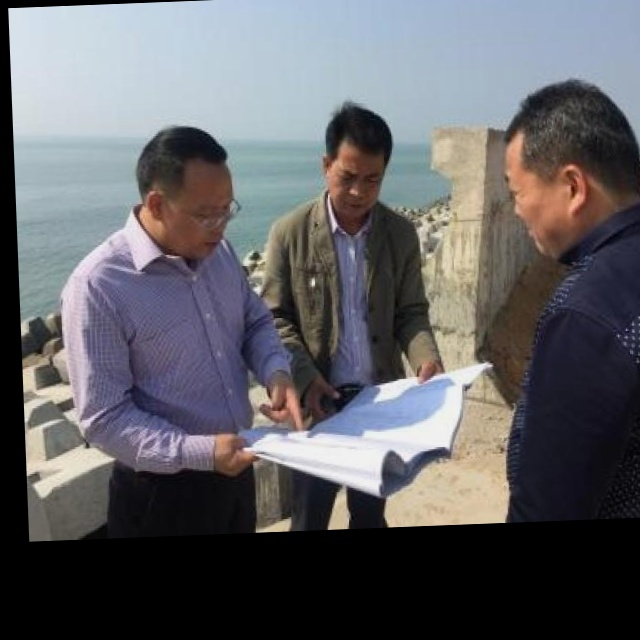Sin_Casco_Mascarrilla: (134, 123, 236, 261), (317, 105, 403, 208)
